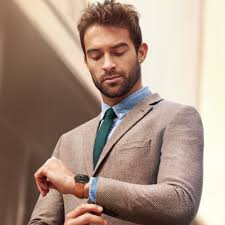middle_eastern_male: (81, 14, 149, 102)
